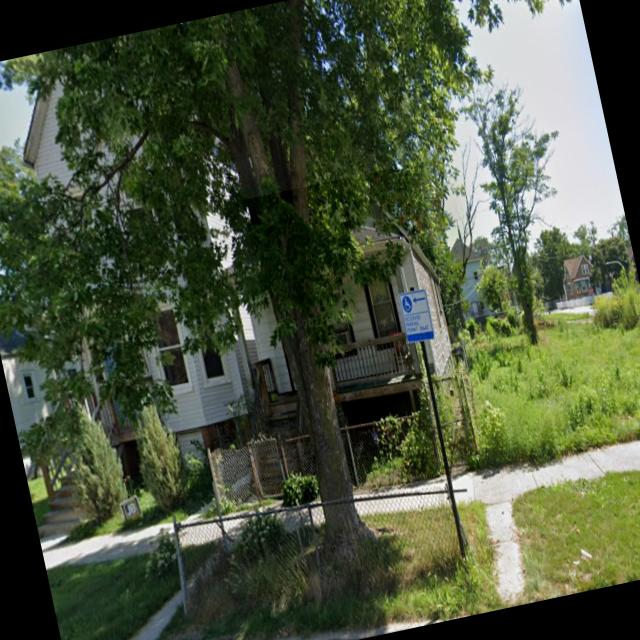House: (0, 22, 299, 524), (201, 162, 479, 514)
